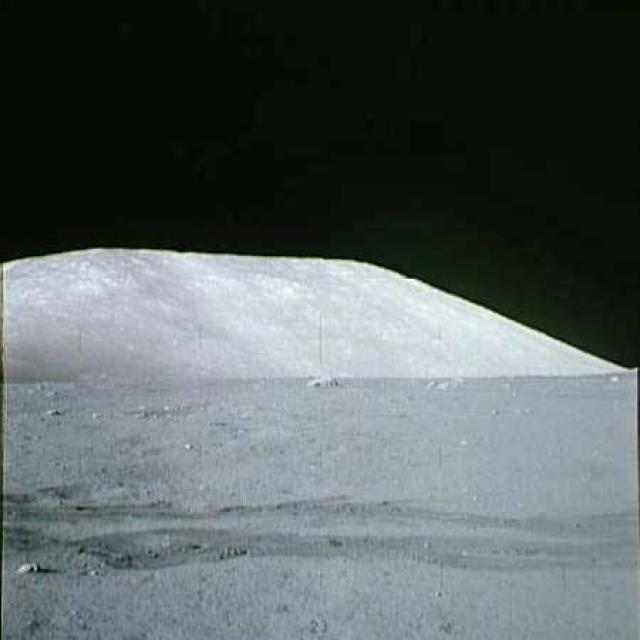crater: (49, 476, 182, 513), (83, 537, 220, 565)
rock: (300, 374, 342, 389)
